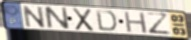D: (94, 9, 118, 32)
H: (123, 11, 149, 34)
N: (43, 6, 71, 30), (21, 5, 47, 29)
X: (72, 7, 96, 32)
Z: (145, 11, 173, 35)
